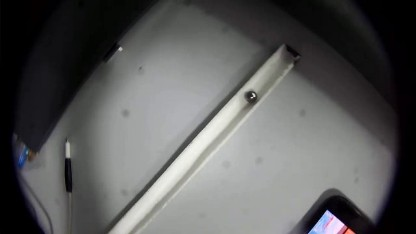gangzhu: (245, 89, 259, 103)
